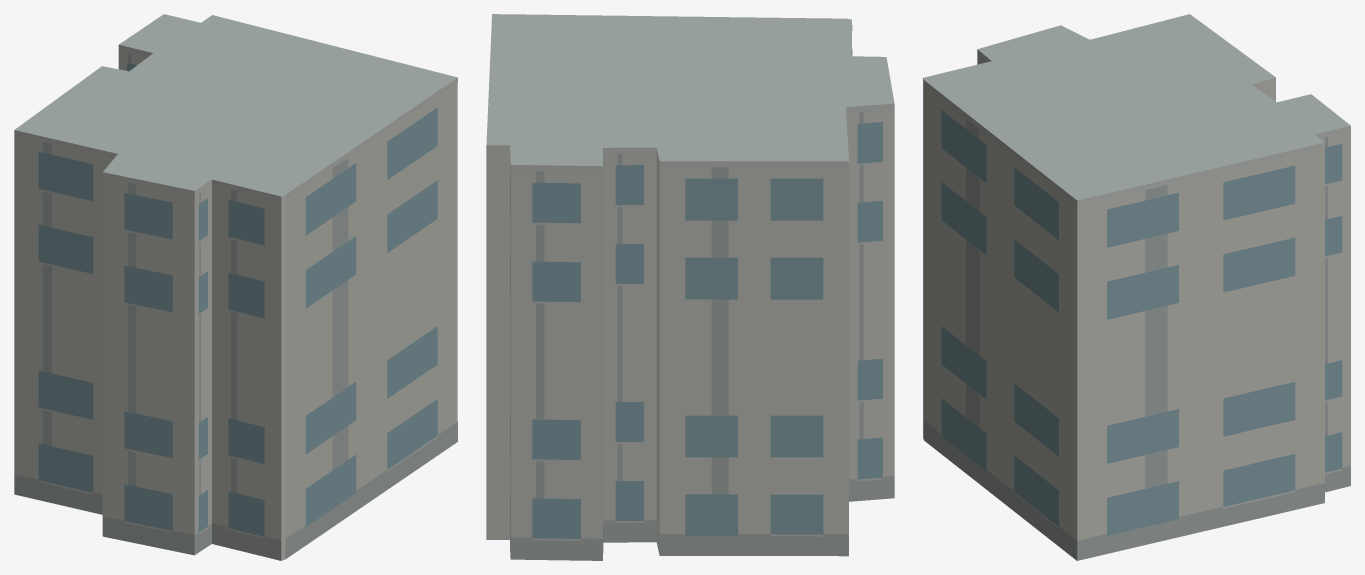
The model's file is survey-upis-32839519.glb.
3 renders of one model, left to right at view 1: azimuth 30°, elevation 25°; view 2: azimuth 150°, elevation 25°; view 3: azimuth 270°, elevation 25°, orthographic. The views are drawn at different scales.
Parts seen in each view (by area): view 1: survey-upis-32839519.tmp; view 2: survey-upis-32839519.tmp; view 3: survey-upis-32839519.tmp.
Boxes of the visible parts, x1,y1,x2,y2 form: survey-upis-32839519.tmp: (14, 14, 457, 560); survey-upis-32839519.tmp: (486, 14, 894, 560); survey-upis-32839519.tmp: (923, 14, 1350, 560).
Size of the model in its own units: 17.94 by 16.15 by 17.38.
